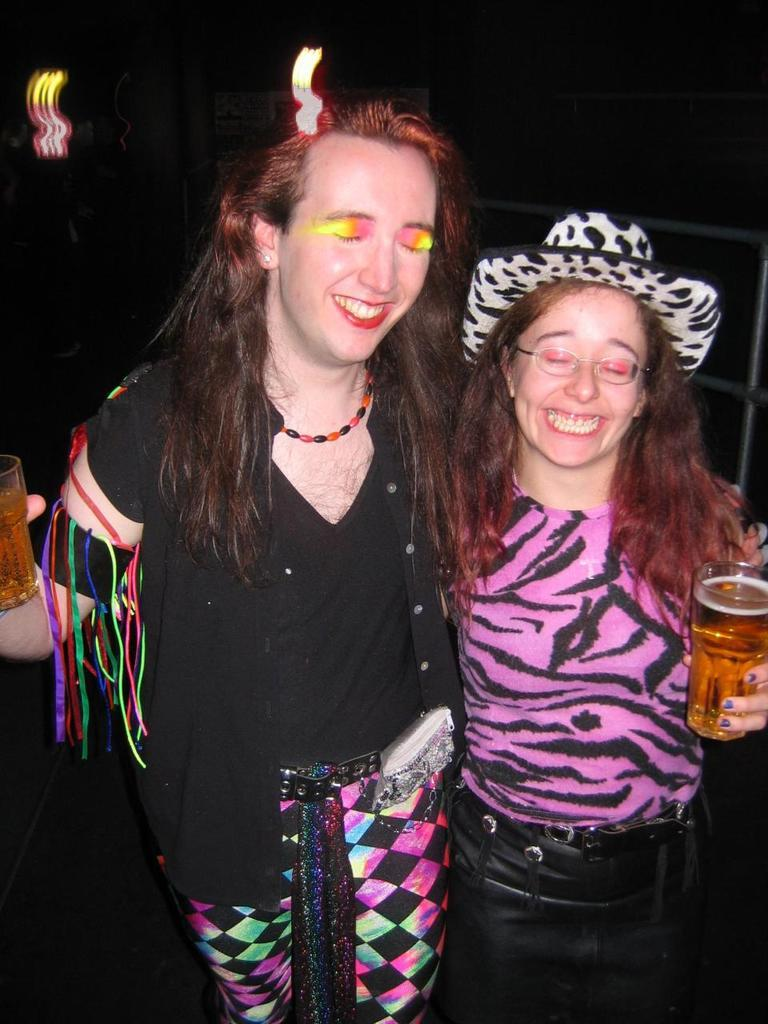Hat: (456, 212, 726, 394)
